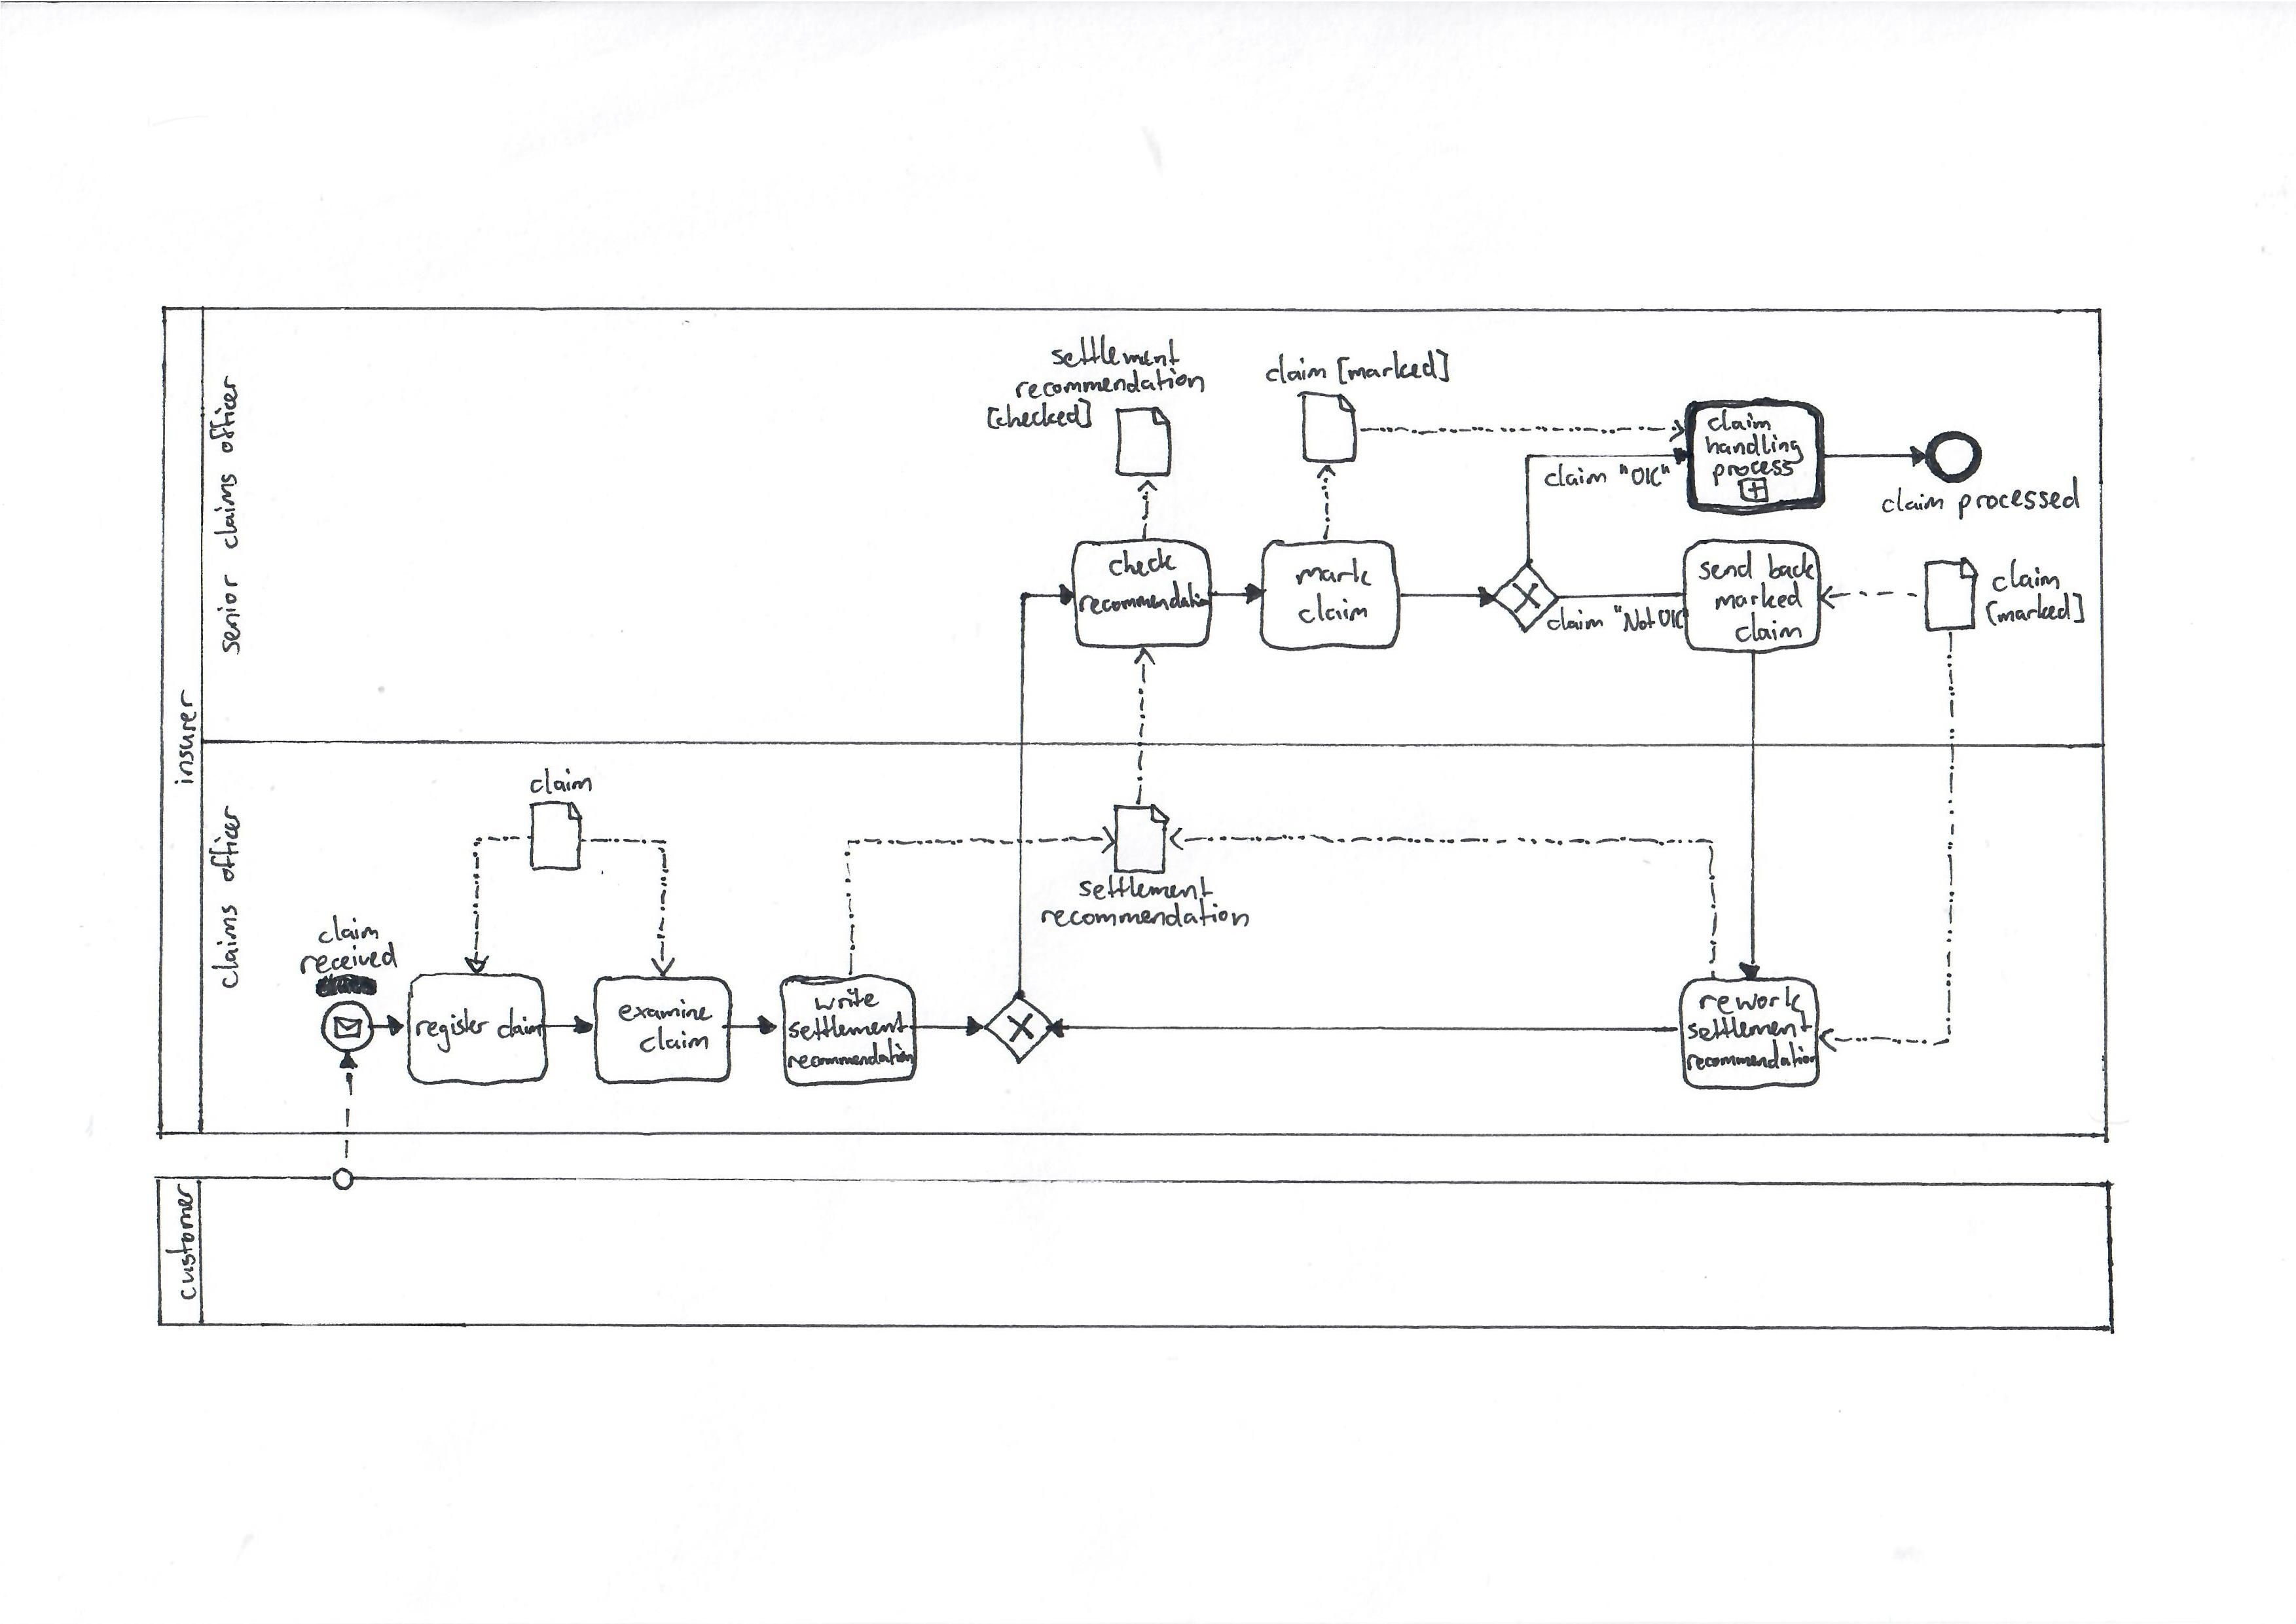Not: (1609, 601, 1658, 636)
OK: (1614, 460, 1674, 490), (1654, 603, 1691, 633)
[checked]: (983, 394, 1097, 434)
[marked]: (1333, 344, 1454, 390), (1981, 589, 2089, 631)
back: (1762, 548, 1820, 585)
check: (1104, 545, 1181, 584)
claim: (1294, 589, 1373, 629), (1988, 554, 2064, 596), (1730, 606, 1807, 647), (1259, 350, 1333, 388), (635, 1021, 714, 1056), (1876, 482, 1950, 518), (313, 910, 383, 947), (526, 765, 596, 800), (1540, 460, 1612, 492), (492, 1004, 547, 1044), (1542, 603, 1607, 636), (1704, 406, 1776, 436)
claims: (206, 900, 244, 993), (211, 469, 243, 554)
customer: (162, 1179, 200, 1304)
examine: (614, 995, 716, 1026)
handling: (1702, 431, 1809, 468)
insurer: (169, 684, 200, 789)
mark: (1290, 554, 1377, 591)
marked: (1711, 576, 1807, 615)
officer: (206, 801, 244, 886), (206, 371, 243, 459)
process: (1709, 457, 1797, 492)
processed: (1955, 471, 2085, 526)
received: (295, 939, 401, 979)
recommendation: (1037, 893, 1255, 933), (1007, 364, 1210, 404), (1074, 576, 1213, 620), (1682, 1035, 1821, 1076), (784, 1033, 918, 1074)
register: (411, 1004, 494, 1056)
rework: (1695, 982, 1807, 1021)
send: (1695, 545, 1756, 585)
senior: (213, 569, 246, 659)
settlement: (1046, 330, 1181, 373), (1684, 1007, 1816, 1046), (784, 1007, 912, 1046), (1074, 870, 1218, 903)
write: (810, 984, 883, 1014)
